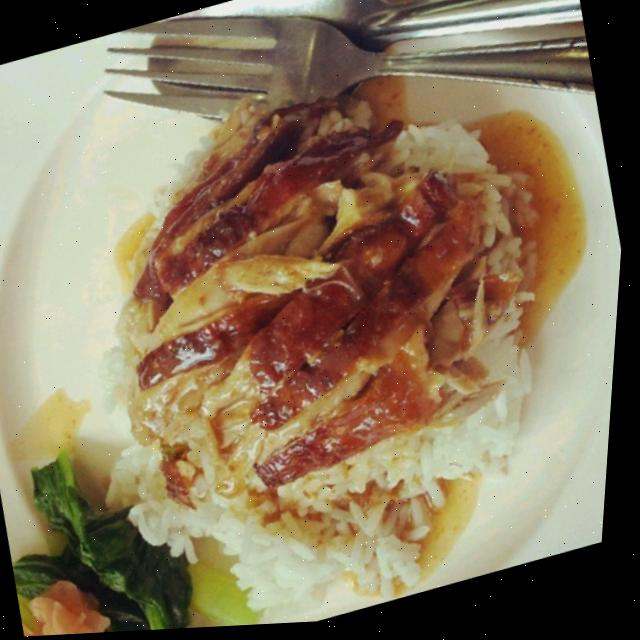米饭主食: (5, 6, 638, 638)
